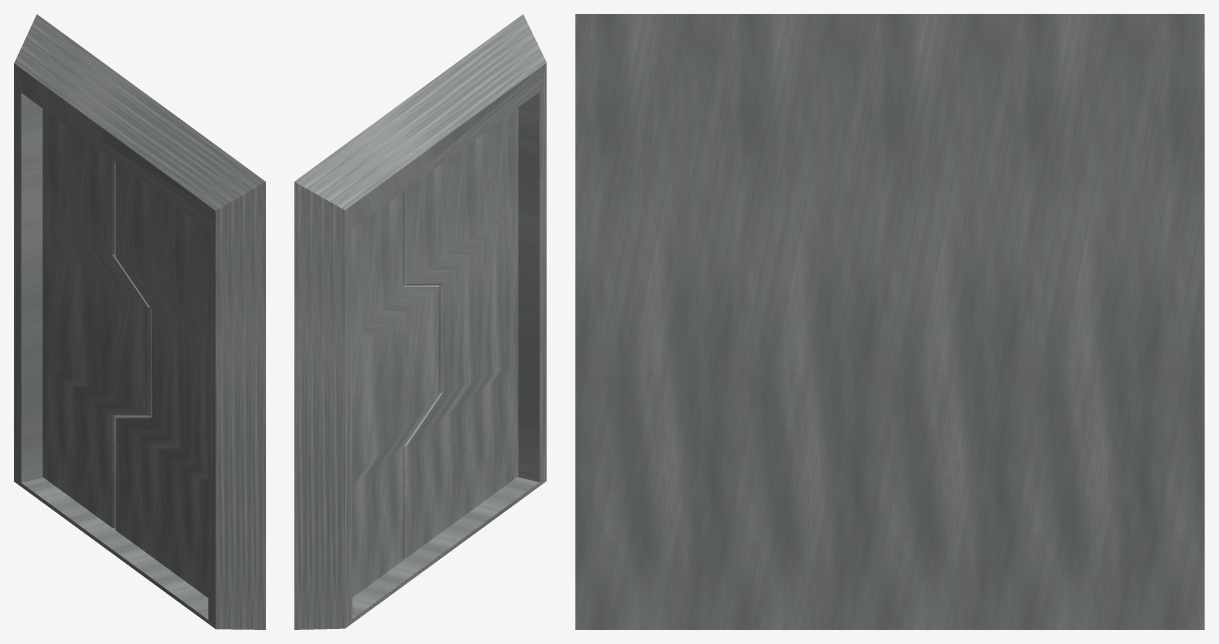
Rendered from drzwi_suwane_2.FBX.
3 renders of one model, left to right at view 1: azimuth 30°, elevation 25°; view 2: azimuth 150°, elevation 25°; view 3: azimuth 270°, elevation 25°, orthographic. The views are drawn at different scales.
Visible parts, largest first — view 1: Box705; view 2: Box705; view 3: Box705.
Boxes of the visible parts, bbox=[...] form: Box705: bbox=[14, 14, 265, 629]; Box705: bbox=[294, 14, 546, 629]; Box705: bbox=[575, 14, 1204, 629].
Bounding box in the file's own units: 0.774 × 8.99 × 8.32.
1 material, 1 textured.
